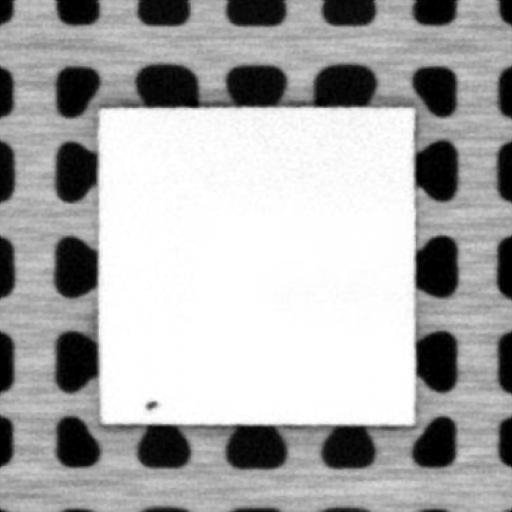DIE_INK: (140, 396, 161, 411)
